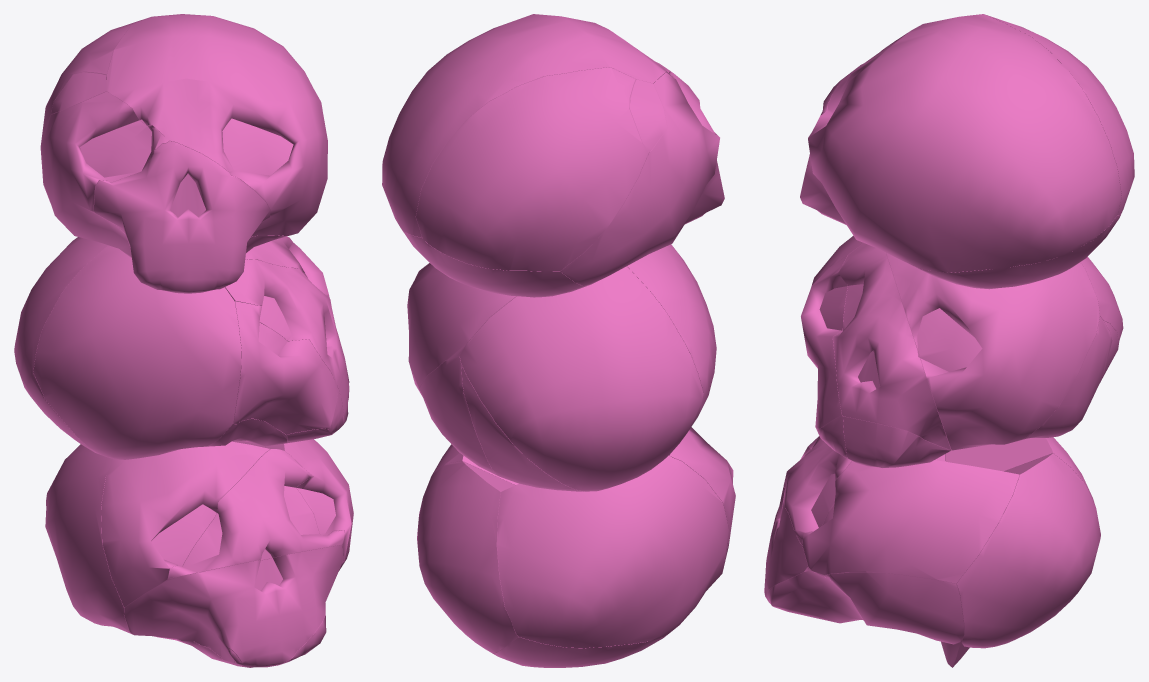
File: CELL_StackedSkulls.fbx
3 views of the same model, side by side, from view 1: azimuth 30°, elevation 25°; view 2: azimuth 150°, elevation 25°; view 3: azimuth 270°, elevation 25° (orthographic). The views are drawn at different scales.
Parts seen in each view (by area): view 1: m_StackedSkulls.001_cell.003, m_StackedSkulls_cell.007, m_StackedSkulls_cell.014, m_StackedSkulls_cell, m_StackedSkulls_cell.016, m_StackedSkulls_cell.003, m_StackedSkulls_cell.008, m_StackedSkulls.001_cell.002, m_StackedSkulls_cell.013, m_StackedSkulls.001_cell.005, m_StackedSkulls.001_cell, m_StackedSkulls_cell.009 (+6 smaller); view 2: m_StackedSkulls.001_cell, m_StackedSkulls_cell.001, m_StackedSkulls_cell.013, m_StackedSkulls_cell.007, m_StackedSkulls_cell.012, m_StackedSkulls_cell.003, m_StackedSkulls.001_cell.008, m_StackedSkulls.001_cell.003, m_StackedSkulls_cell.017, m_StackedSkulls.001_cell.007, m_StackedSkulls.001_cell.004, m_StackedSkulls_cell.004 (+3 smaller); view 3: m_StackedSkulls_cell.007, m_StackedSkulls.001_cell.008, m_StackedSkulls_cell.009, m_StackedSkulls_cell.012, m_StackedSkulls.001_cell.005, m_StackedSkulls_cell.019, m_StackedSkulls.001_cell.002, m_StackedSkulls_cell.008, m_StackedSkulls_cell.001, m_StackedSkulls.001_cell.006, m_StackedSkulls_cell.010, m_StackedSkulls.001_cell.007 (+6 smaller).
Part boxes in pixels (<box>): m_StackedSkulls.001_cell.003: <box>33,245,241,459</box>; m_StackedSkulls_cell.007: <box>106,14,327,236</box>; m_StackedSkulls_cell.014: <box>93,141,270,293</box>; m_StackedSkulls_cell: <box>124,545,343,667</box>; m_StackedSkulls_cell.016: <box>101,441,270,607</box>; m_StackedSkulls_cell.003: <box>40,91,169,257</box>; m_StackedSkulls_cell.008: <box>168,449,344,578</box>; m_StackedSkulls.001_cell.002: <box>233,301,338,434</box>; m_StackedSkulls_cell.013: <box>45,444,131,633</box>; m_StackedSkulls.001_cell.005: <box>225,259,345,388</box>; m_StackedSkulls.001_cell: <box>14,237,108,453</box>; m_StackedSkulls_cell.009: <box>233,439,353,561</box>; m_StackedSkulls.001_cell: <box>459,266,703,491</box>; m_StackedSkulls_cell.001: <box>416,67,648,271</box>; m_StackedSkulls_cell.013: <box>497,455,728,648</box>; m_StackedSkulls_cell.007: <box>382,14,670,237</box>; m_StackedSkulls_cell.012: <box>417,461,518,653</box>; m_StackedSkulls_cell.003: <box>560,72,719,285</box>; m_StackedSkulls.001_cell.008: <box>407,263,516,396</box>; m_StackedSkulls.001_cell.003: <box>627,244,716,413</box>; m_StackedSkulls_cell.017: <box>403,231,589,297</box>; m_StackedSkulls.001_cell.007: <box>419,356,497,475</box>; m_StackedSkulls.001_cell.004: <box>461,364,584,491</box>; m_StackedSkulls_cell.004: <box>492,635,666,667</box>; m_StackedSkulls_cell.007: <box>808,14,1121,272</box>; m_StackedSkulls.001_cell.008: <box>886,253,1099,450</box>; m_StackedSkulls_cell.009: <box>802,460,1019,583</box>; m_StackedSkulls_cell.012: <box>954,453,1100,648</box>; m_StackedSkulls.001_cell.005: <box>832,243,950,450</box>; m_StackedSkulls_cell.019: <box>825,572,964,644</box>; m_StackedSkulls.001_cell.002: <box>801,255,847,430</box>; m_StackedSkulls_cell.008: <box>783,436,851,544</box>; m_StackedSkulls_cell.001: <box>986,15,1134,214</box>; m_StackedSkulls.001_cell.006: <box>843,416,950,467</box>; m_StackedSkulls_cell.010: <box>765,567,863,623</box>; m_StackedSkulls.001_cell.007: <box>1023,316,1112,439</box>.
Bounding box in the file's own units: 254 × 510 × 286.
